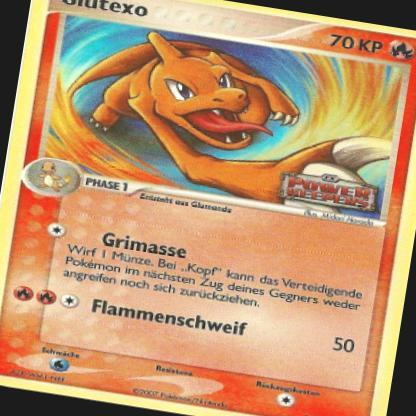Charmeleon: (58, 19, 399, 217)
